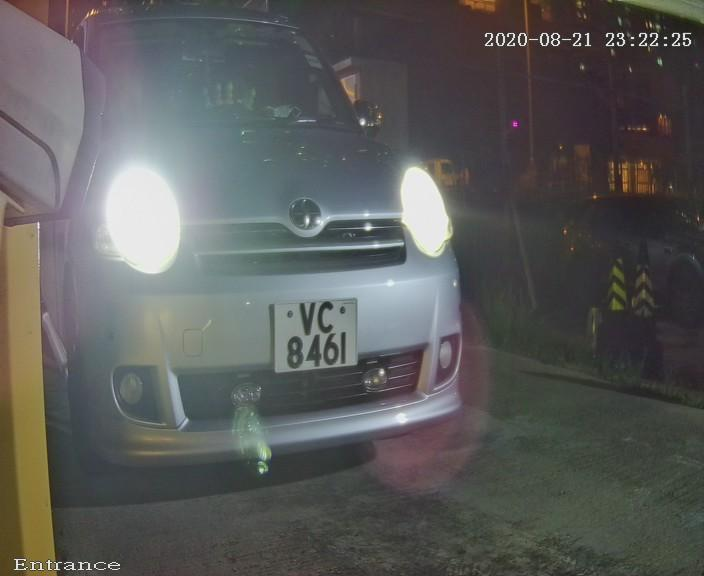Car: (1, 16, 510, 520)
License Plate: (258, 281, 368, 389)
